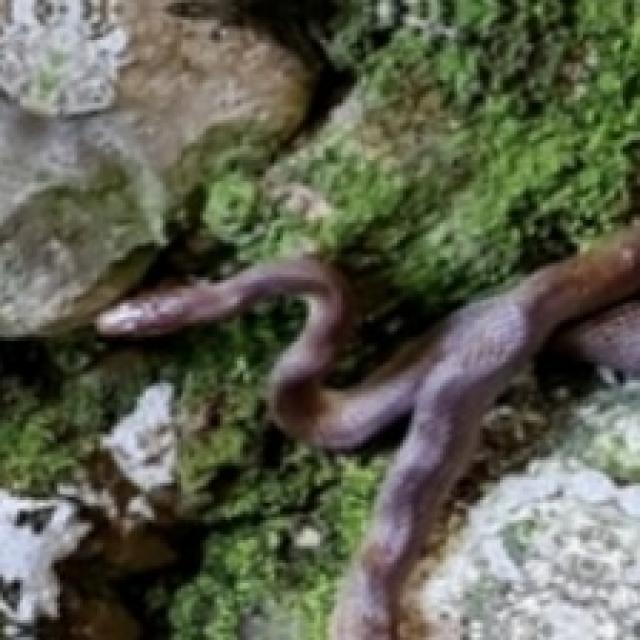reddish rat snake: (94, 223, 637, 637)
